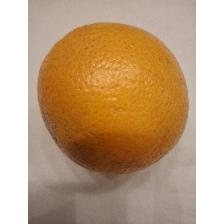Orange: (36, 19, 190, 177)
